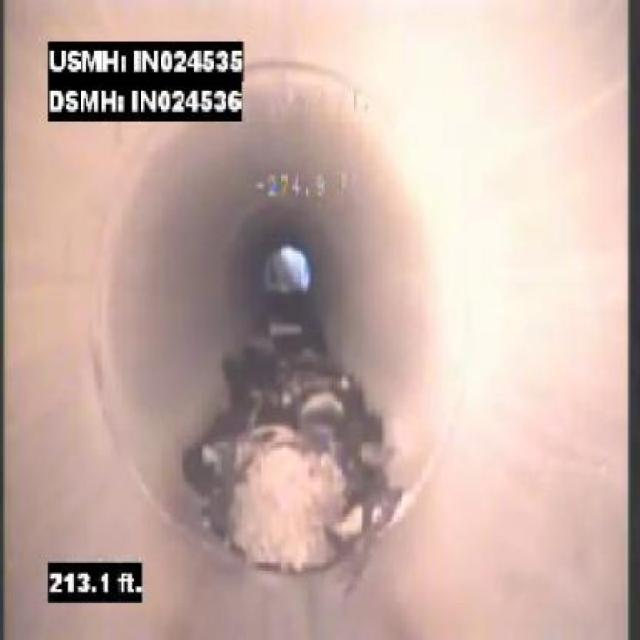Debris: (180, 392, 418, 582)
